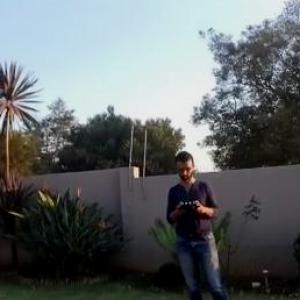follow: (162, 148, 245, 299)
